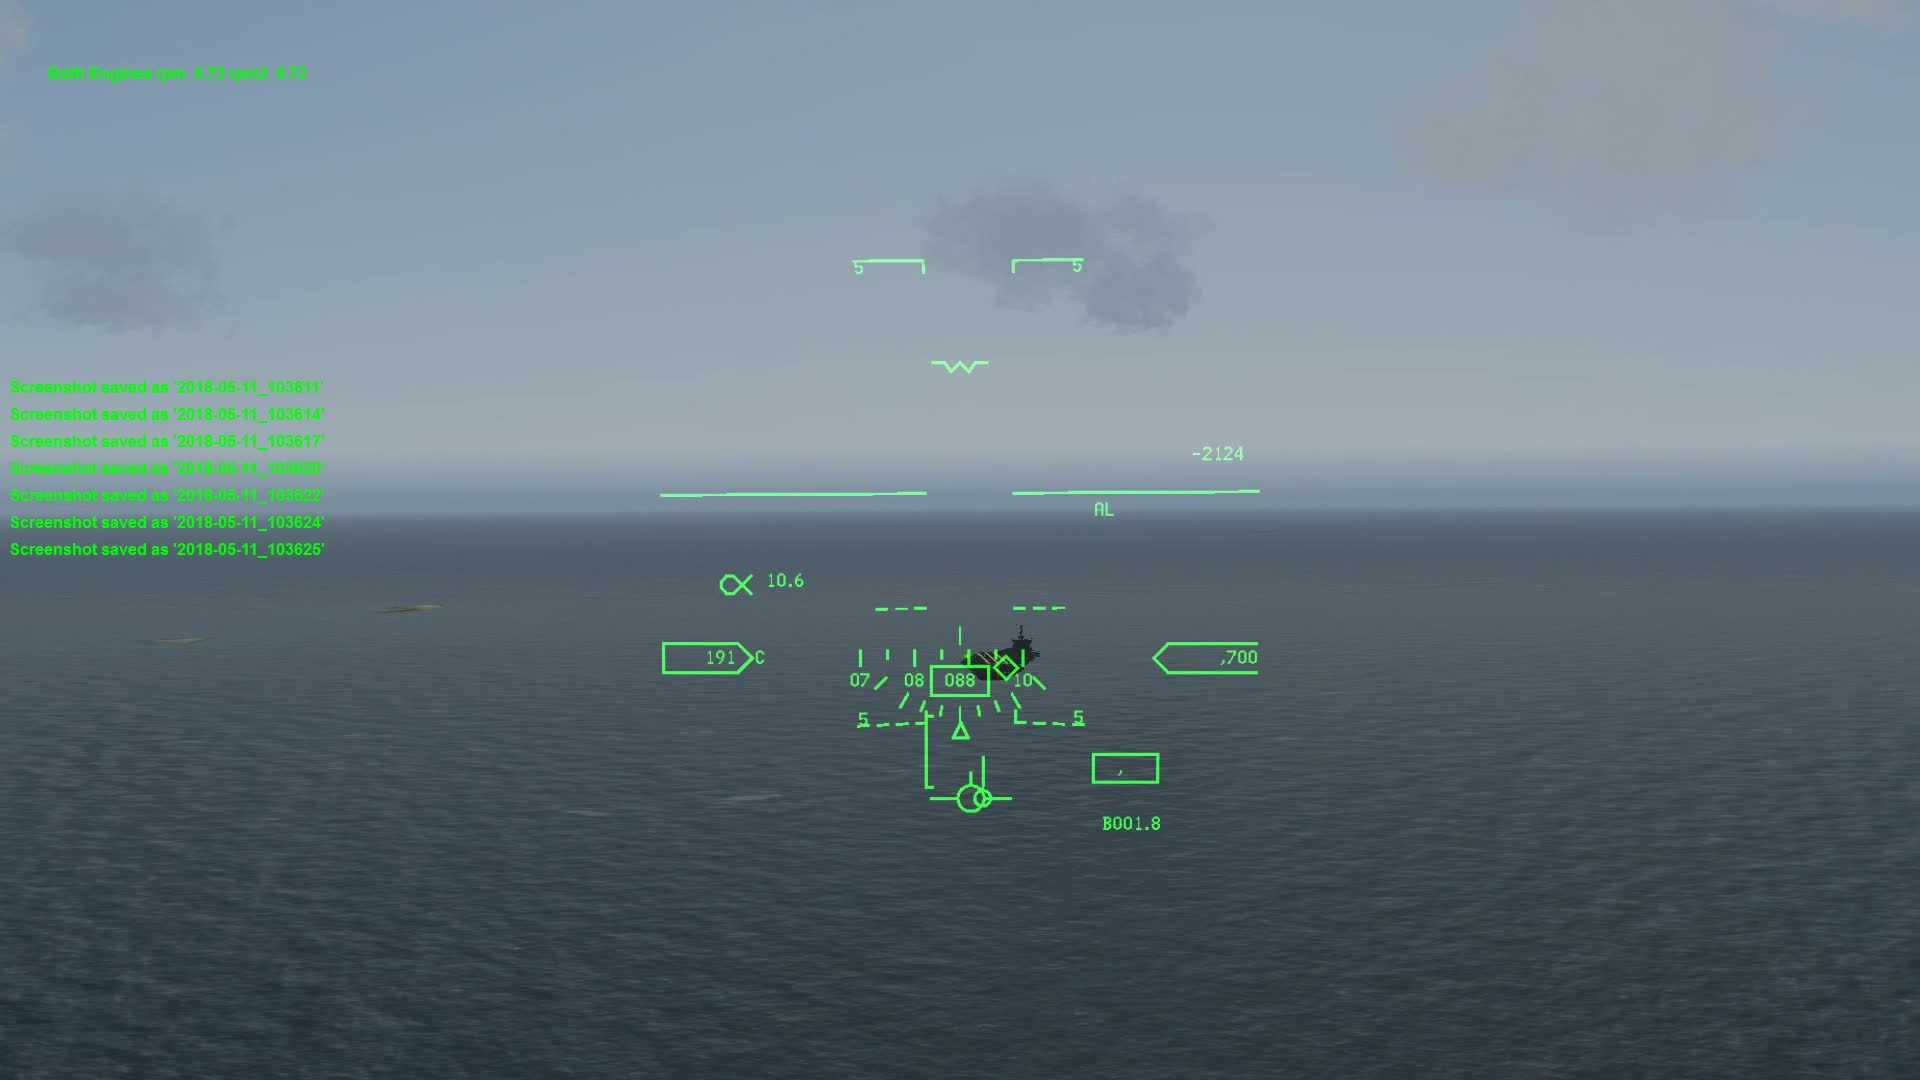speed vector: (930, 758, 1018, 818)
